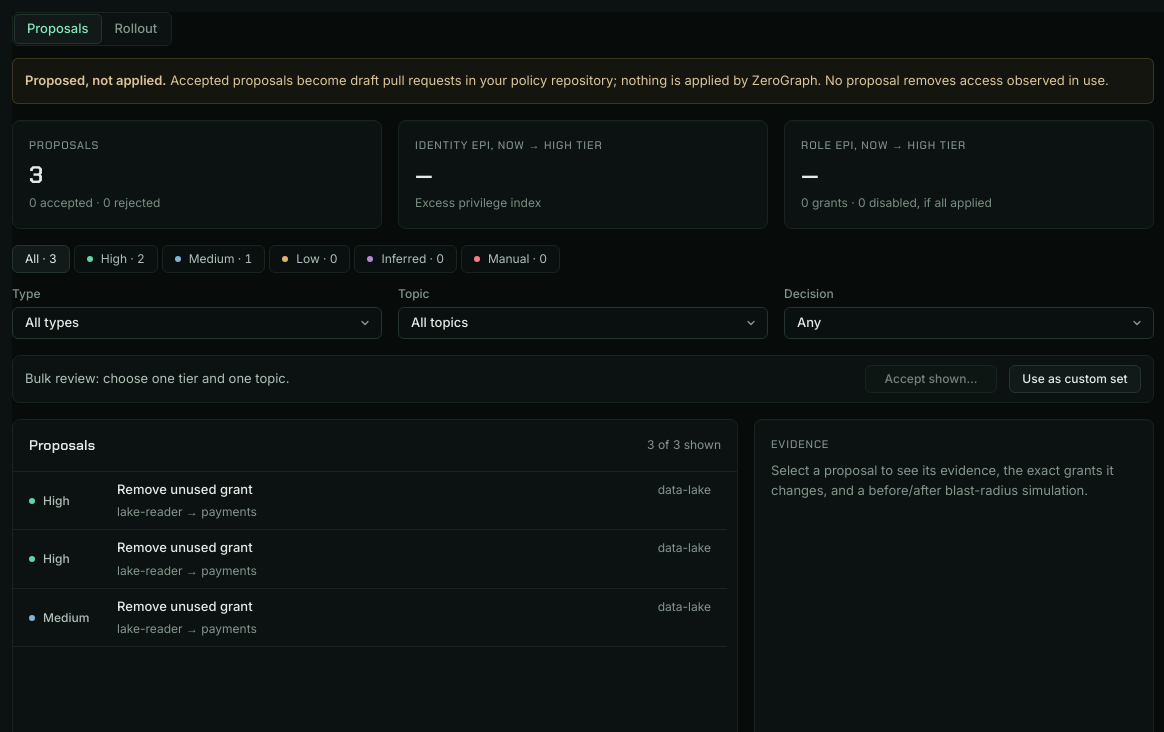
Test: Proposal queue bulk review › keeps bulk accept within one tier and topic and confirms in place
Expected: the button "Accept shown…" is disabled, [865,365,997,393]
Expected: the text "Bulk review: choose one tier and one topic." is shown, [25,370,290,386]
Click the button "High · 2". click: (116, 259)
box: [74,245,158,273]
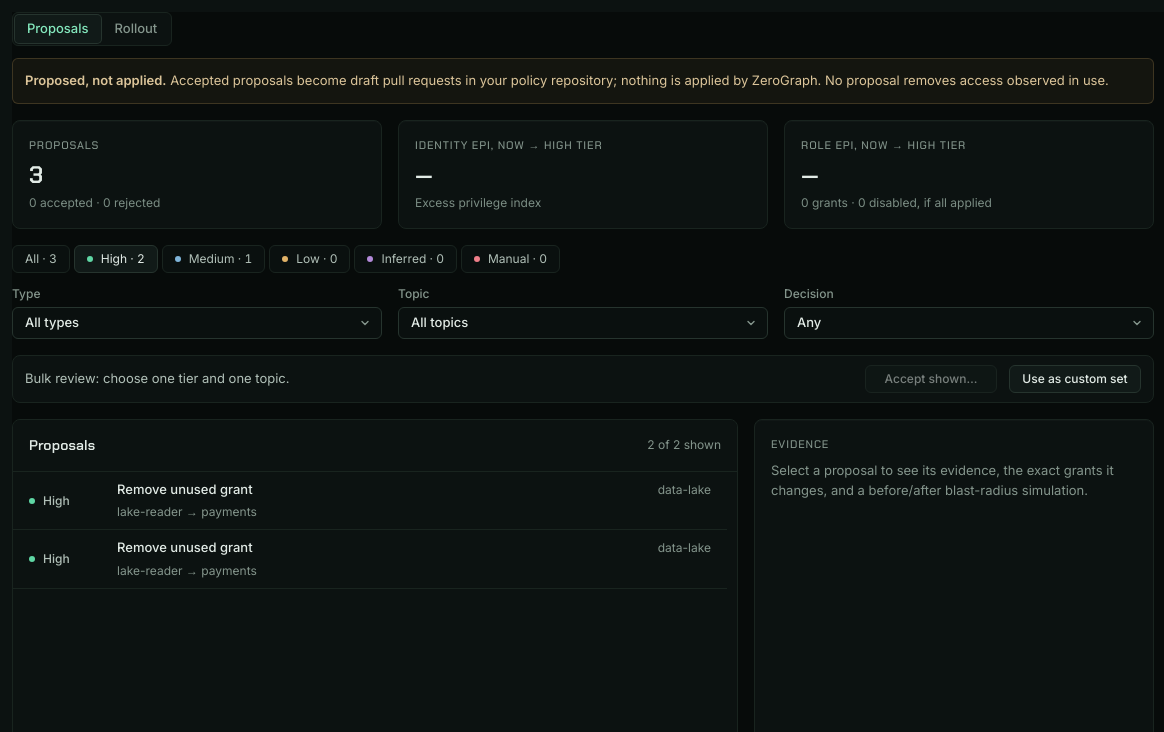
Select "data-lake (3)" in the dropdown labelled "Topic". click: (583, 323)
box: [398,307,768,339]
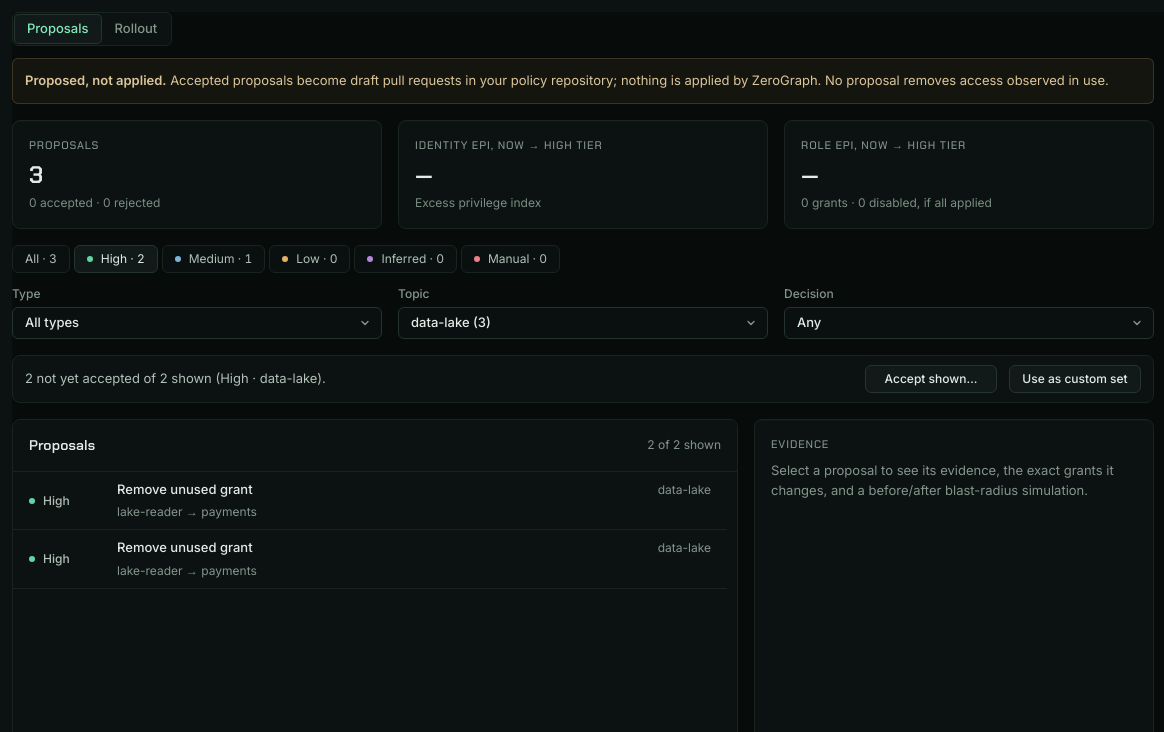
Result: the button "Accept shown…" is enabled
Click the button "Accept shown…". click: (931, 379)
box: [865,365,997,393]
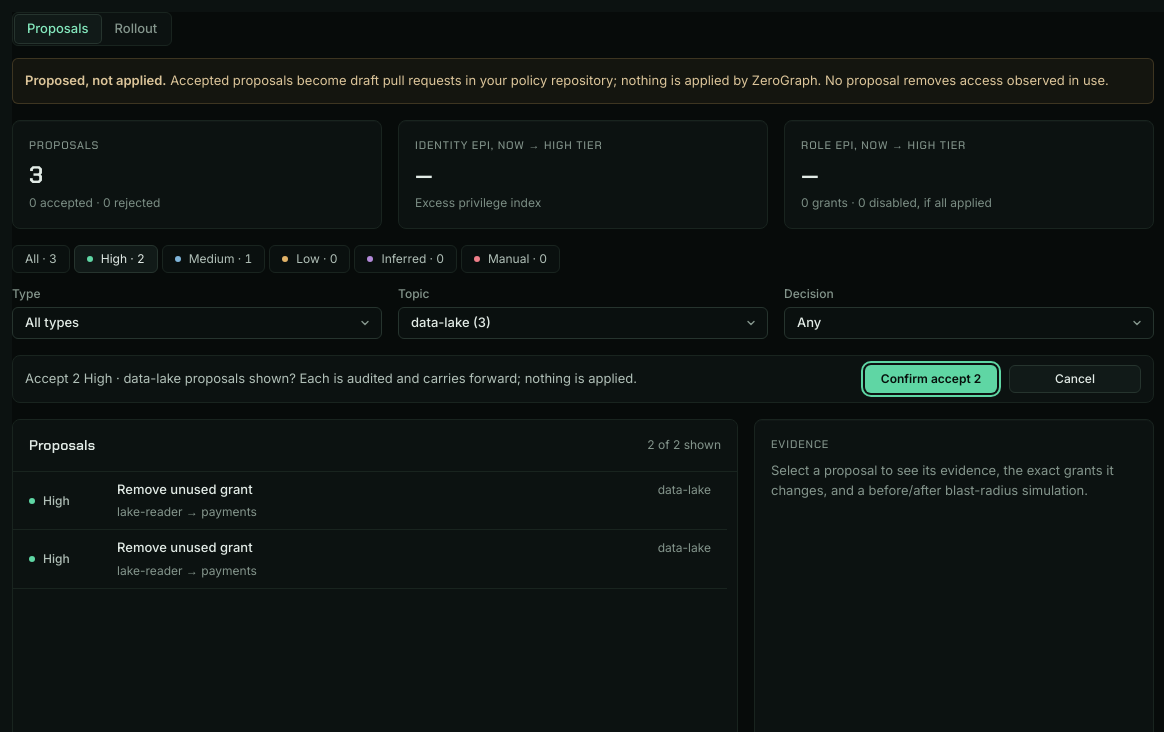
# Escape cancels without deciding anything.
Press Escape in the button "Confirm accept 2", box [865,365,997,393]
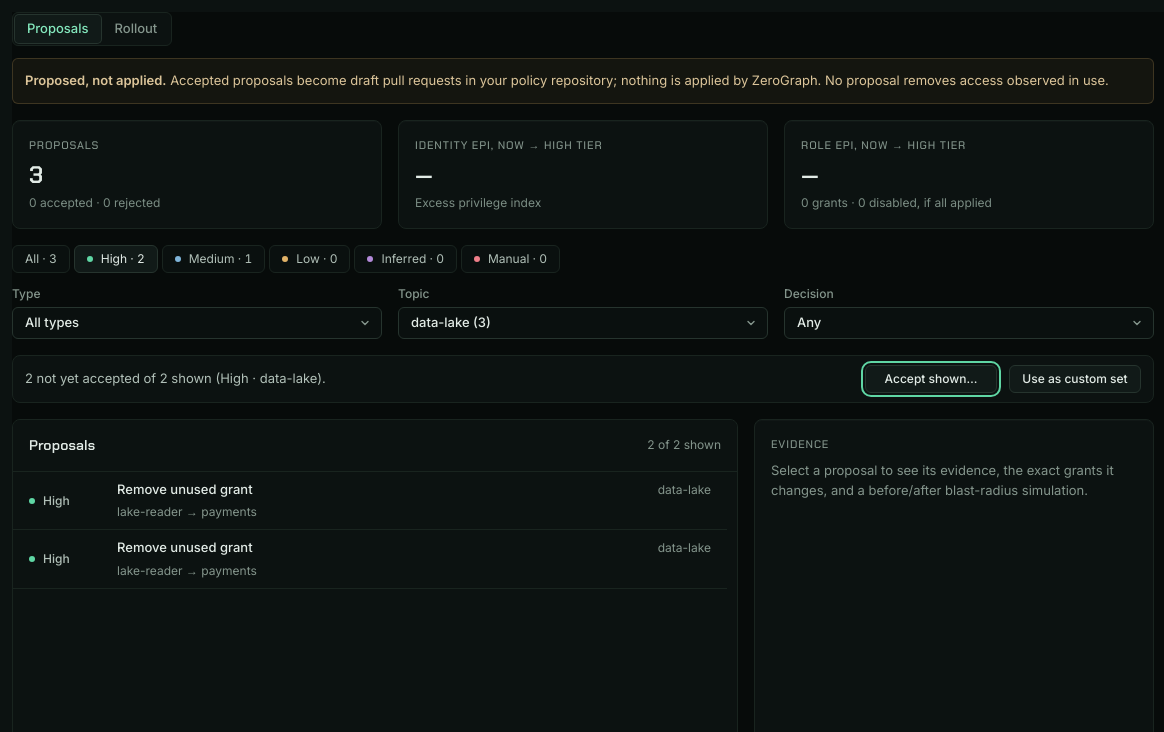
Result: the button "Confirm accept 2" is gone
Click the button "Accept shown…". click: (931, 379)
box: [865,365,997,393]
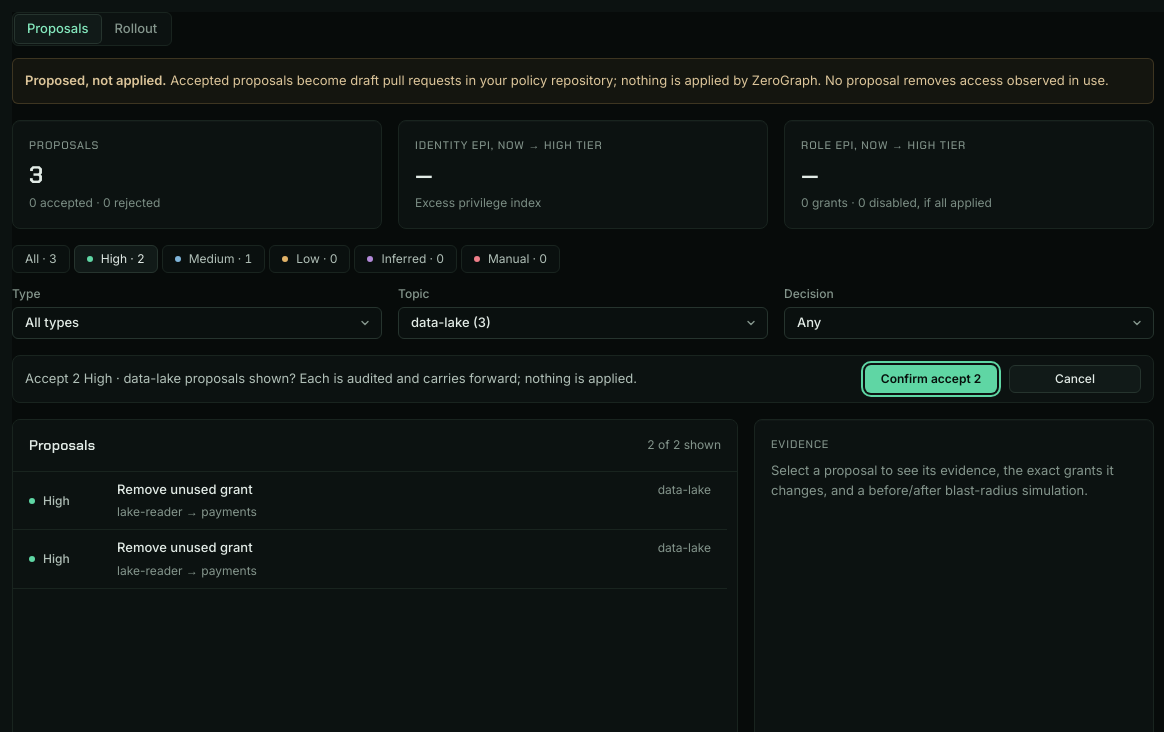
Click the button "Confirm accept 2". click: (931, 379)
box: [865,365,997,393]
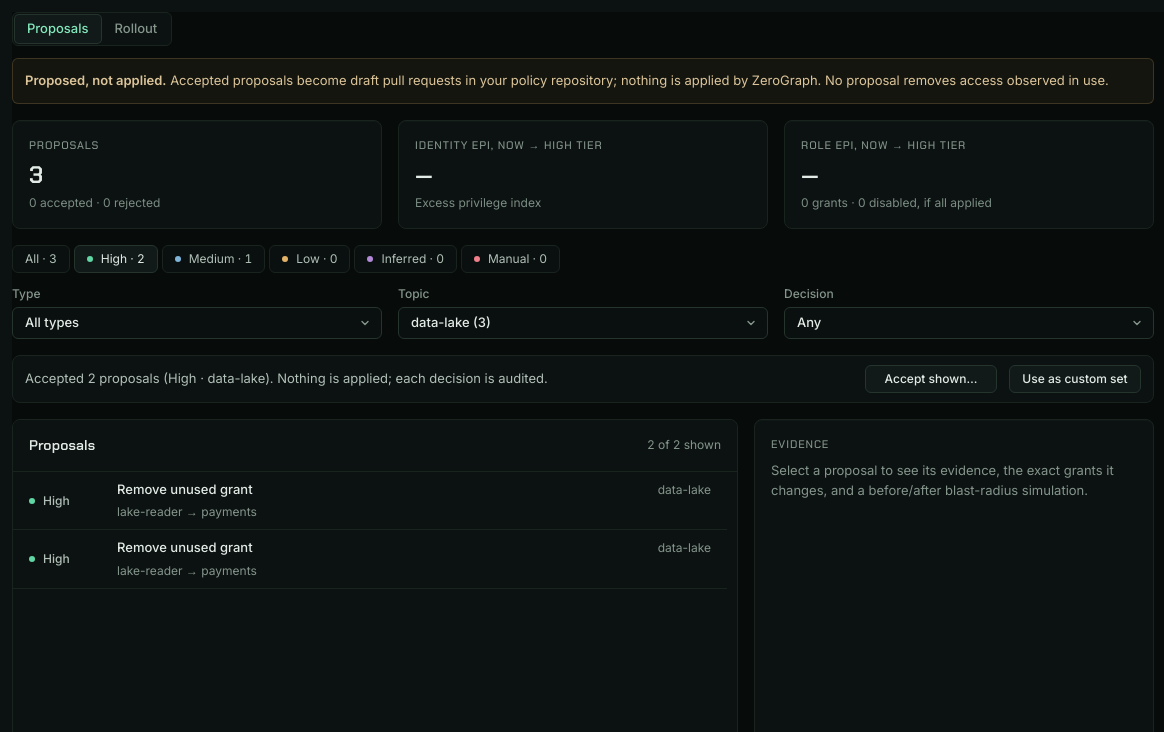
Result: the text "Accepted 2 proposals" is shown at [25,370,548,386]
